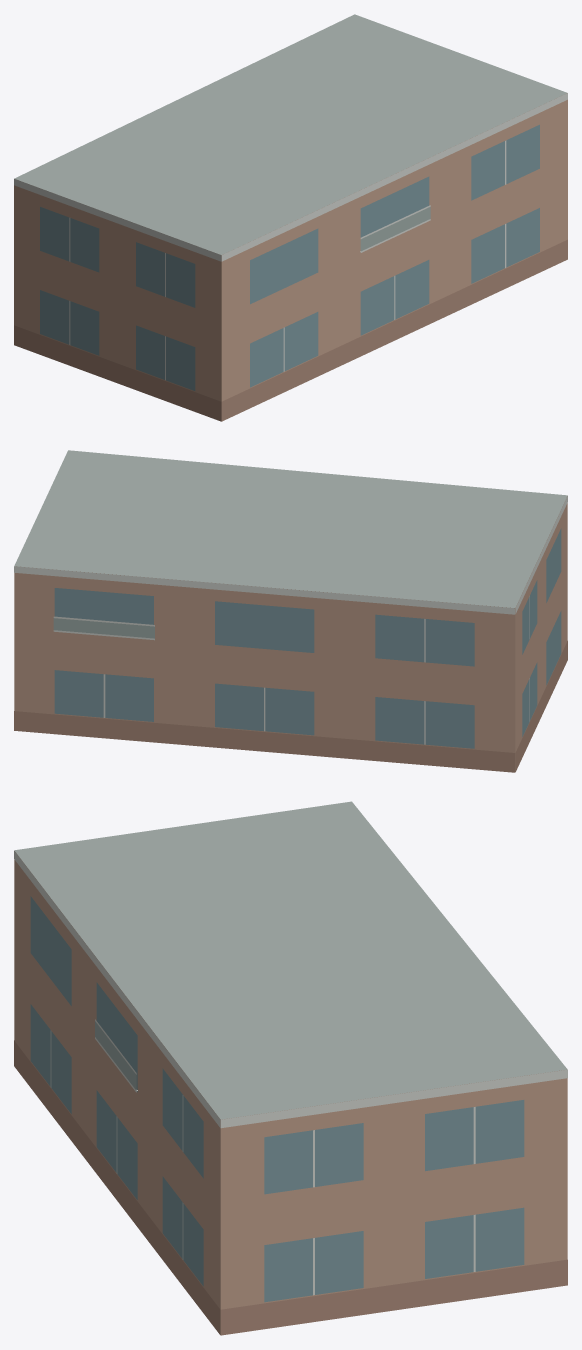
The model's file is survey-upis-32705893.glb.
The picture shows the model from 3 angles, top to bottom: view 1: azimuth 30°, elevation 25°; view 2: azimuth 150°, elevation 25°; view 3: azimuth 270°, elevation 25°; orthographic projection. The views are drawn at different scales.
Parts seen in each view (by area): view 1: survey-upis-32705893.tmp; view 2: survey-upis-32705893.tmp; view 3: survey-upis-32705893.tmp.
Part boxes in pixels (x1=…): survey-upis-32705893.tmp: x1=14, y1=14, x2=567, y2=421; survey-upis-32705893.tmp: x1=14, y1=450, x2=567, y2=772; survey-upis-32705893.tmp: x1=14, y1=801, x2=567, y2=1335.
Bounding box in the file's own units: 19.3 × 6.1 × 14.19.
